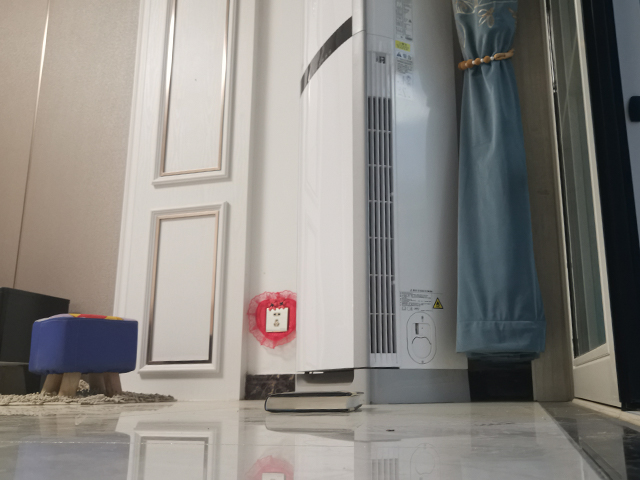book: (261, 388, 367, 414)
carpet: (1, 378, 179, 408)
curtain: (451, 1, 548, 372)
stool: (26, 311, 139, 395)
